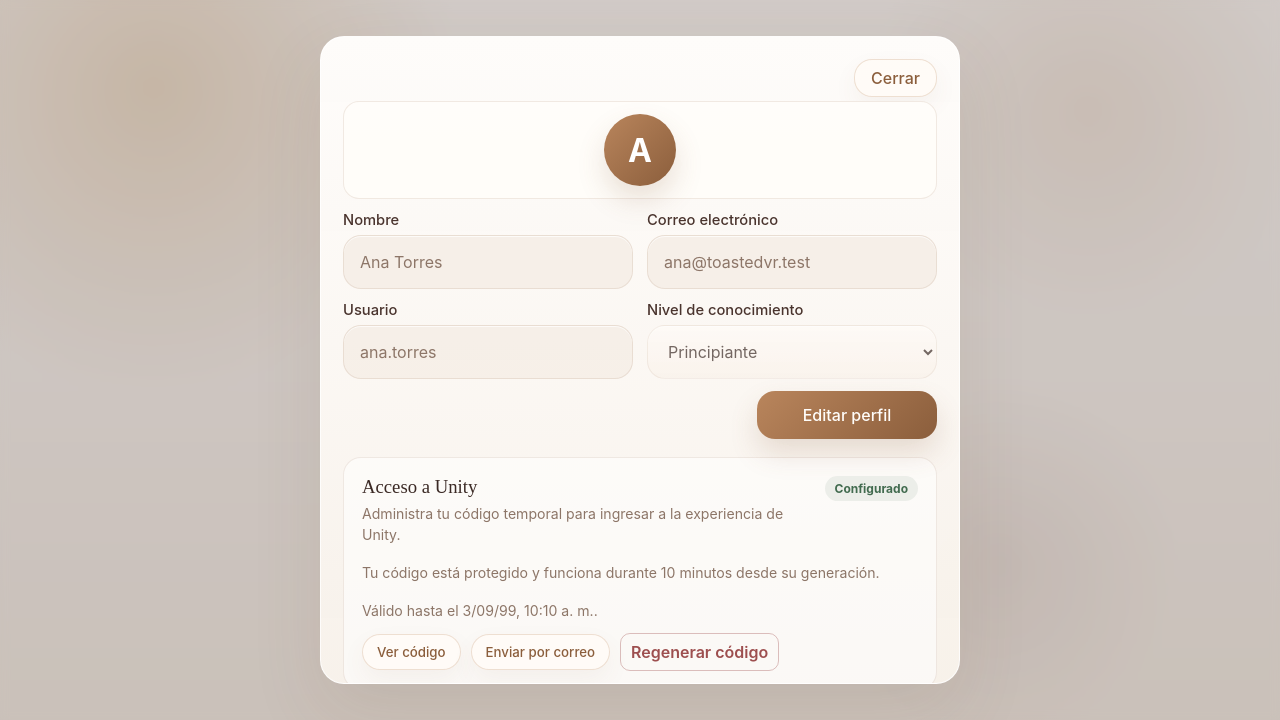
Test: emails and regenerates a configured Unity access code
Click the button "Enviar por correo" at (540, 652), box [471,634,610,670]
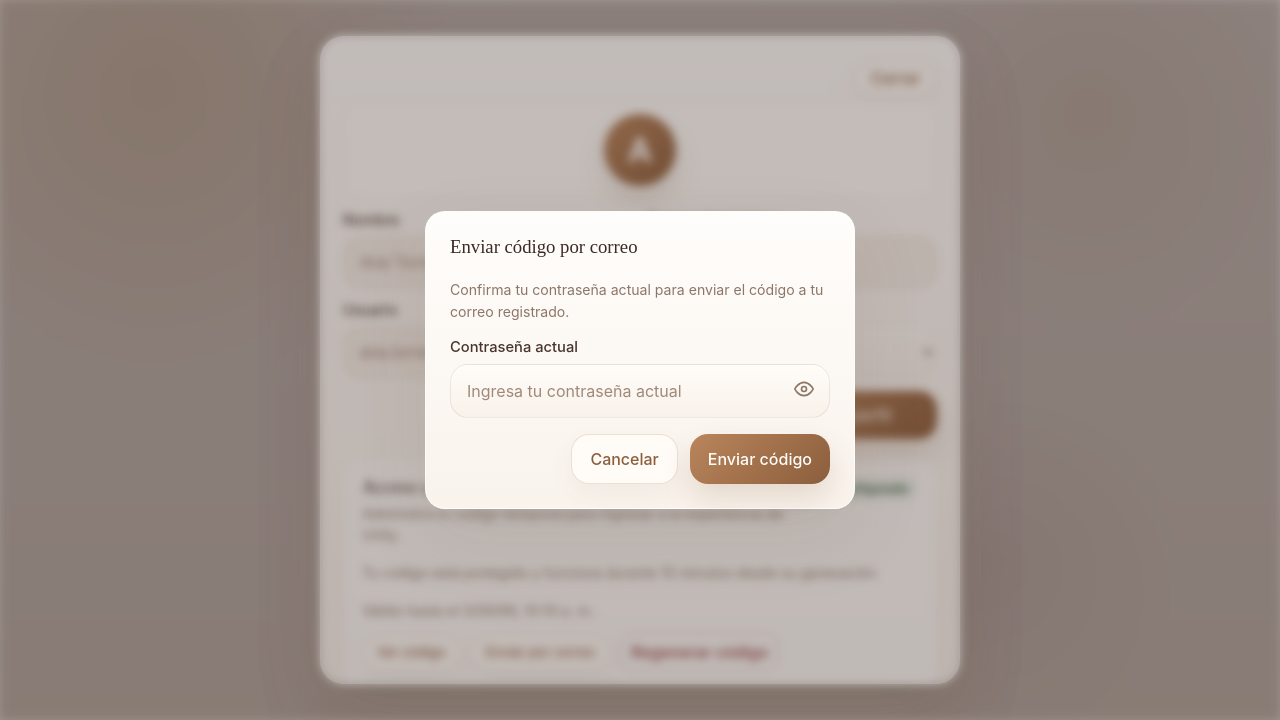
Type "Password123!" into the password field labelled "Contraseña actual" at (640, 391), box [450,364,830,418]
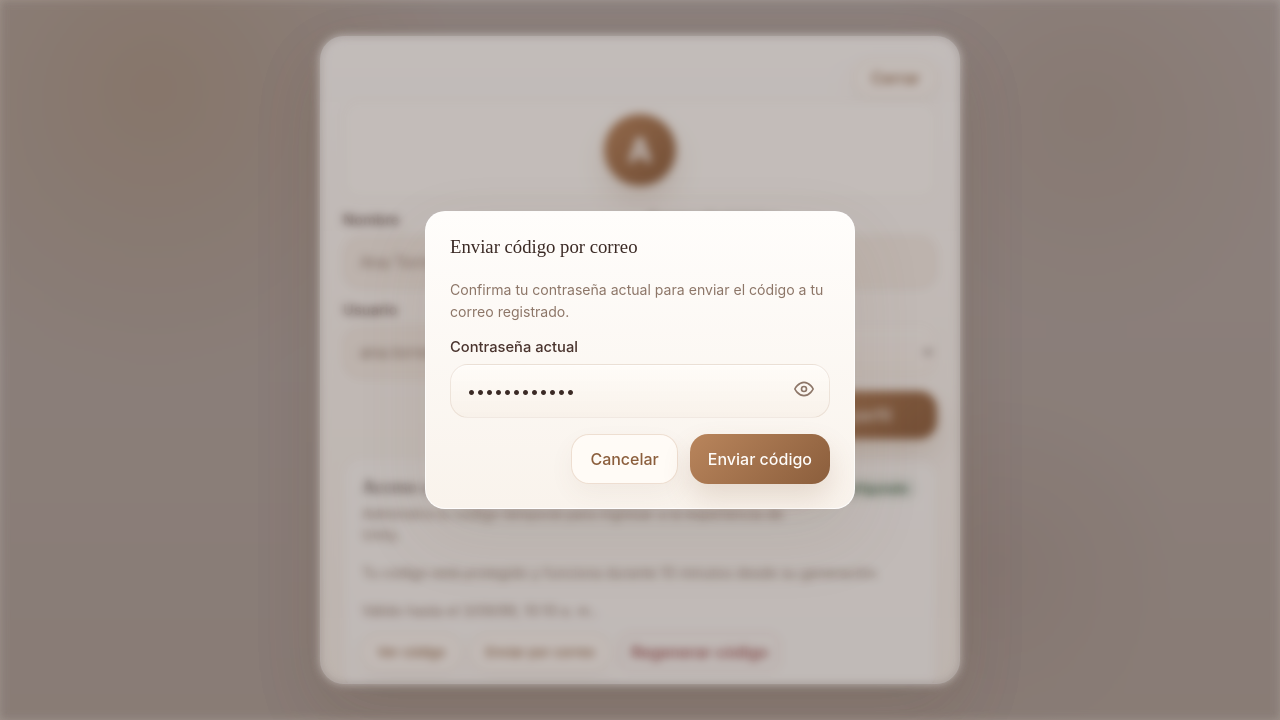
Click the button "Enviar código" at (760, 459), box [690,434,830,484]
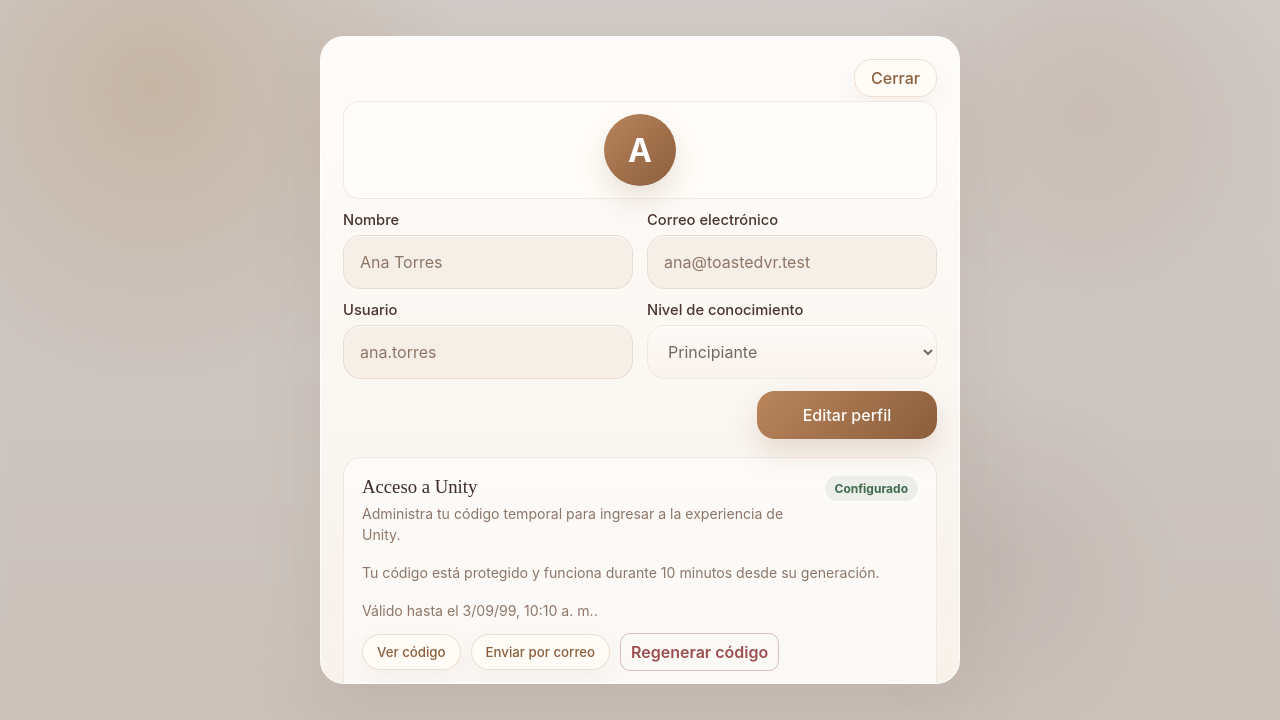
Click the button "Regenerar código" at (700, 652), box [620,633,779,671]
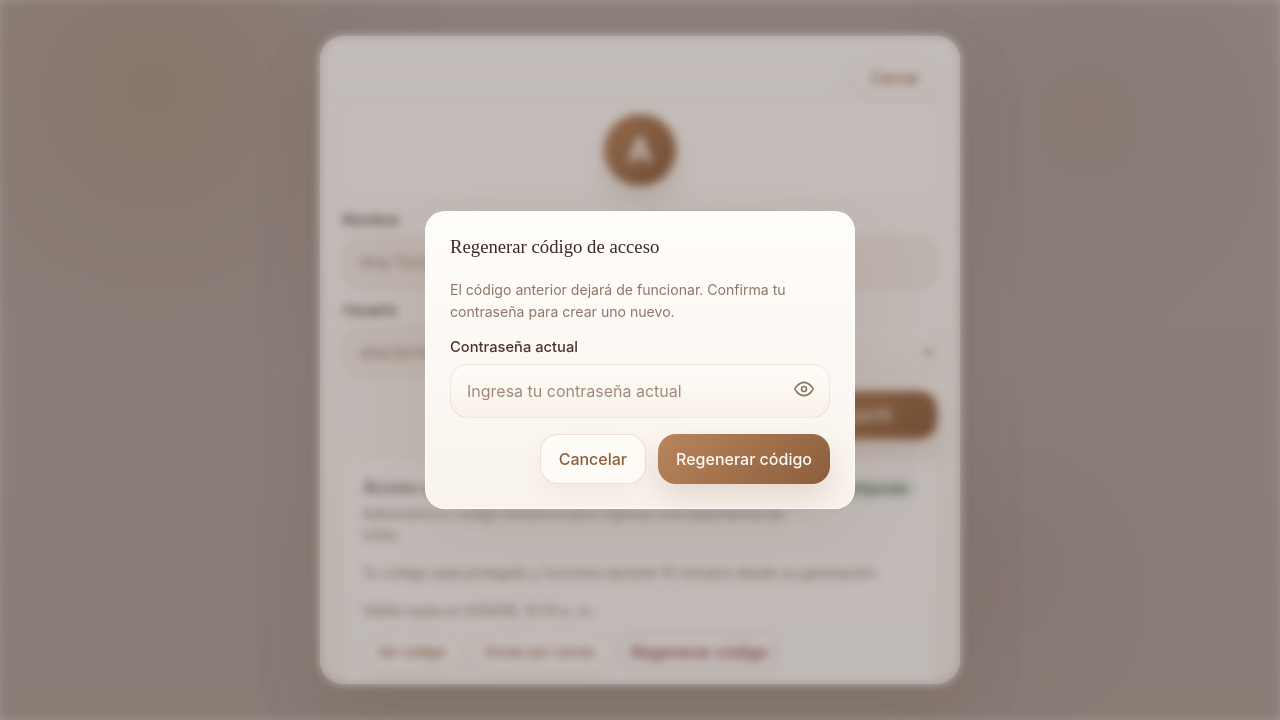
Expected: the text "El código anterior dejará de funcionar" is shown, [450,281,786,320]
Type "NewPassword123!" into the password field labelled "Contraseña actual" at (640, 391), box [450,364,830,418]
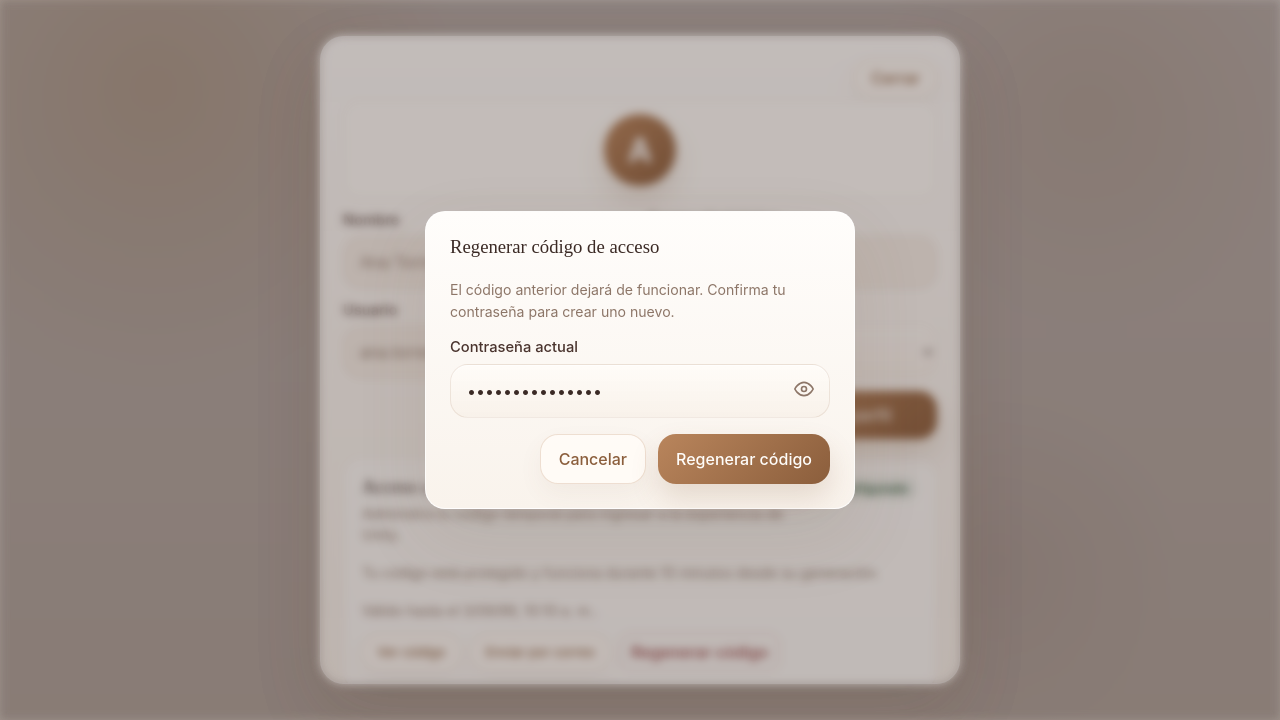
Click the button "Regenerar código" at (744, 459), box [658,434,830,484]
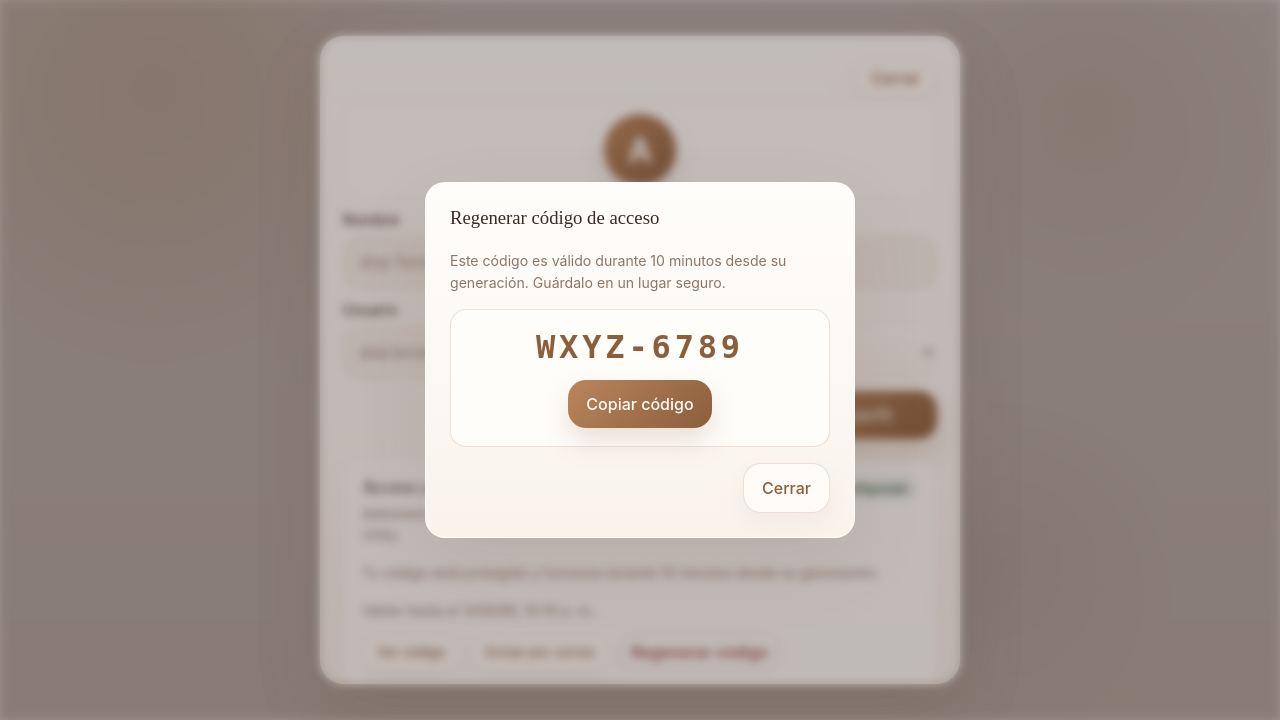
Expected: the text "WXYZ-6789" is shown, [536,328,744,366]
